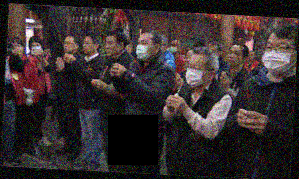with_mask: (260, 38, 294, 75), (184, 62, 208, 88), (135, 38, 155, 61), (167, 40, 178, 56), (29, 42, 41, 54)
without_mask: (225, 48, 242, 65), (103, 38, 116, 57), (62, 39, 75, 54), (81, 39, 93, 53), (11, 42, 22, 55), (246, 52, 254, 61)
